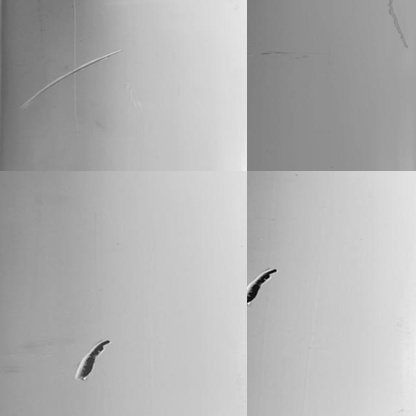kongdong: (72, 338, 111, 385), (244, 264, 279, 304)
sunshang: (20, 50, 138, 126)
